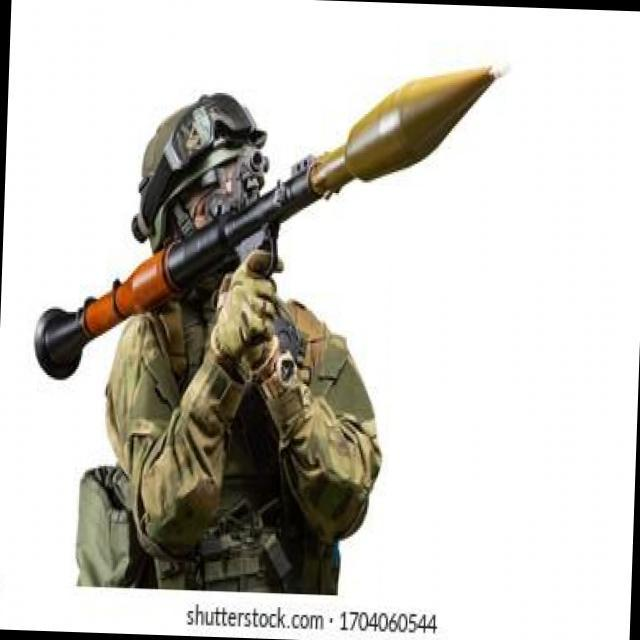rocket: (29, 49, 500, 398)
